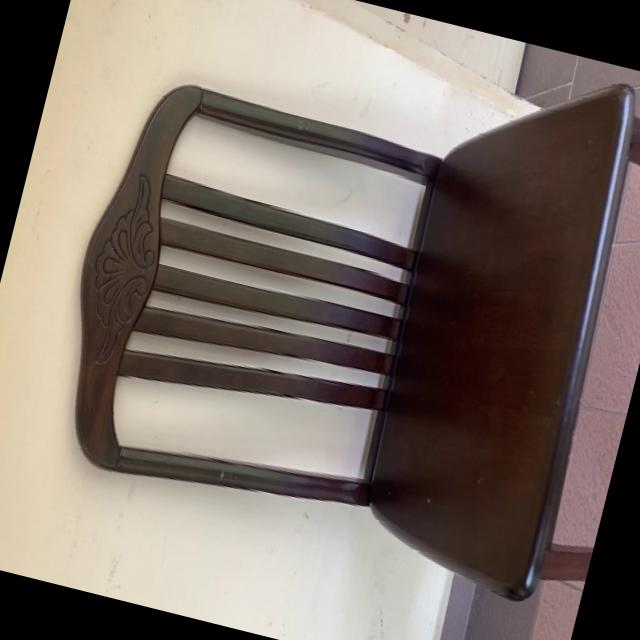Chair: (21, 0, 640, 621)
